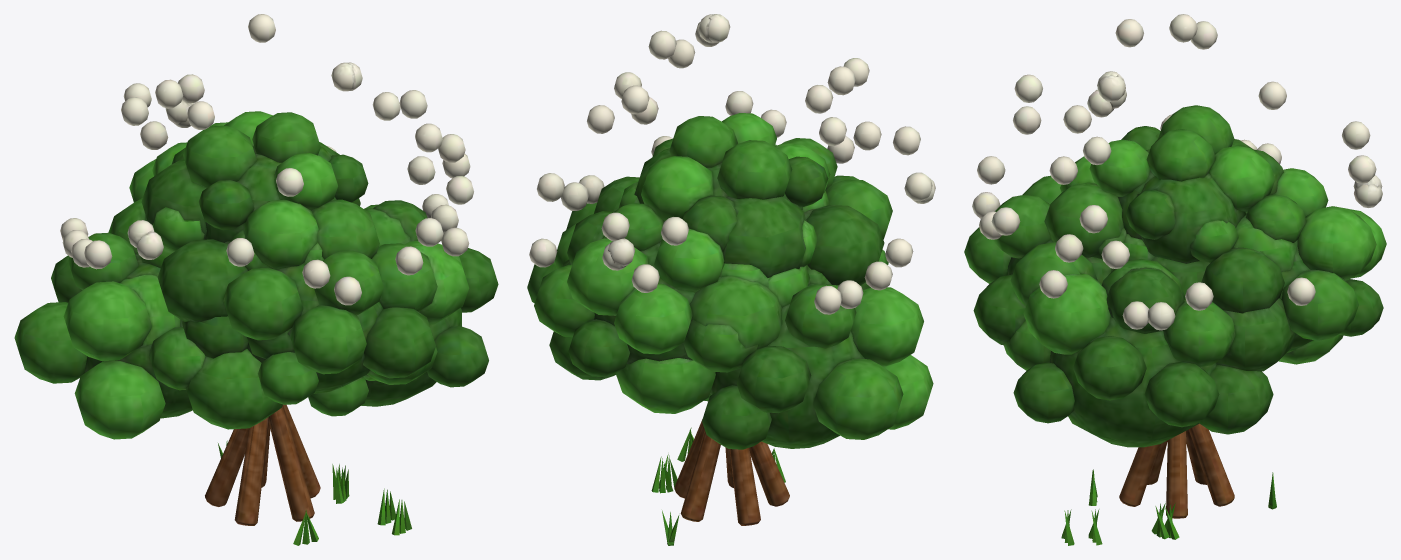
File: elderberry_tree.glb
The picture shows the model from 3 angles, left to right: view 1: azimuth 30°, elevation 25°; view 2: azimuth 150°, elevation 25°; view 3: azimuth 270°, elevation 25°; orthographic projection.
Parts seen in each view (by area): view 1: crown, elderberry_tree; view 2: crown, elderberry_tree; view 3: crown, elderberry_tree.
Part boxes in pixels (<box>): crown: <box>14,14,498,439</box>; elderberry_tree: <box>205,404,411,545</box>; crown: <box>527,14,935,449</box>; elderberry_tree: <box>651,419,789,545</box>; crown: <box>964,14,1386,447</box>; elderberry_tree: <box>1061,423,1276,545</box>.
Bounding box in the file's own units: 1.12 × 1.22 × 1.03.
Materials: 1 (1 with a texture image).
